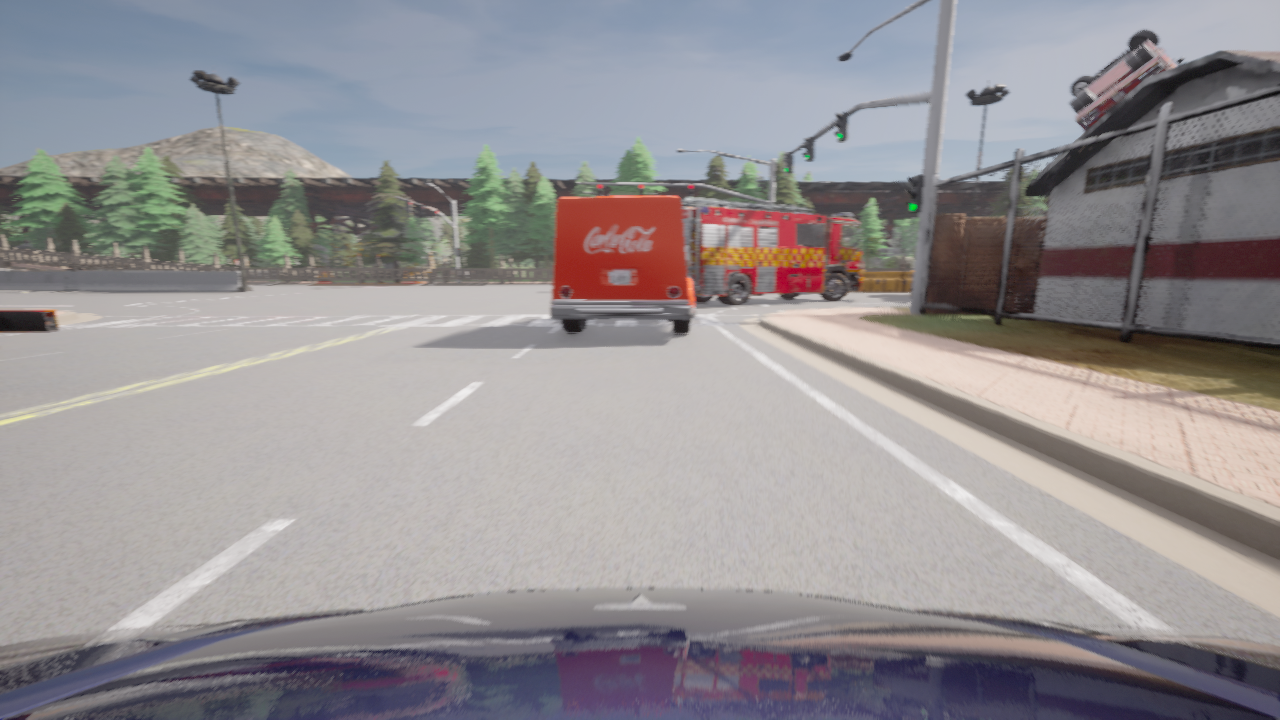cyclist: (0, 588, 1279, 719), (680, 197, 863, 305), (550, 196, 694, 333), (1069, 29, 1188, 131)
